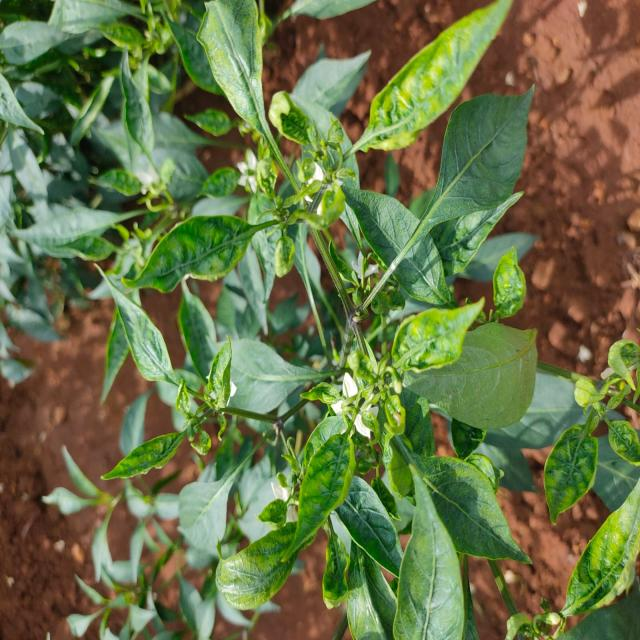Moko: (284, 280, 458, 499), (216, 83, 361, 250), (548, 292, 640, 504), (548, 469, 640, 640), (132, 347, 257, 470), (372, 19, 480, 144), (97, 0, 176, 81)
